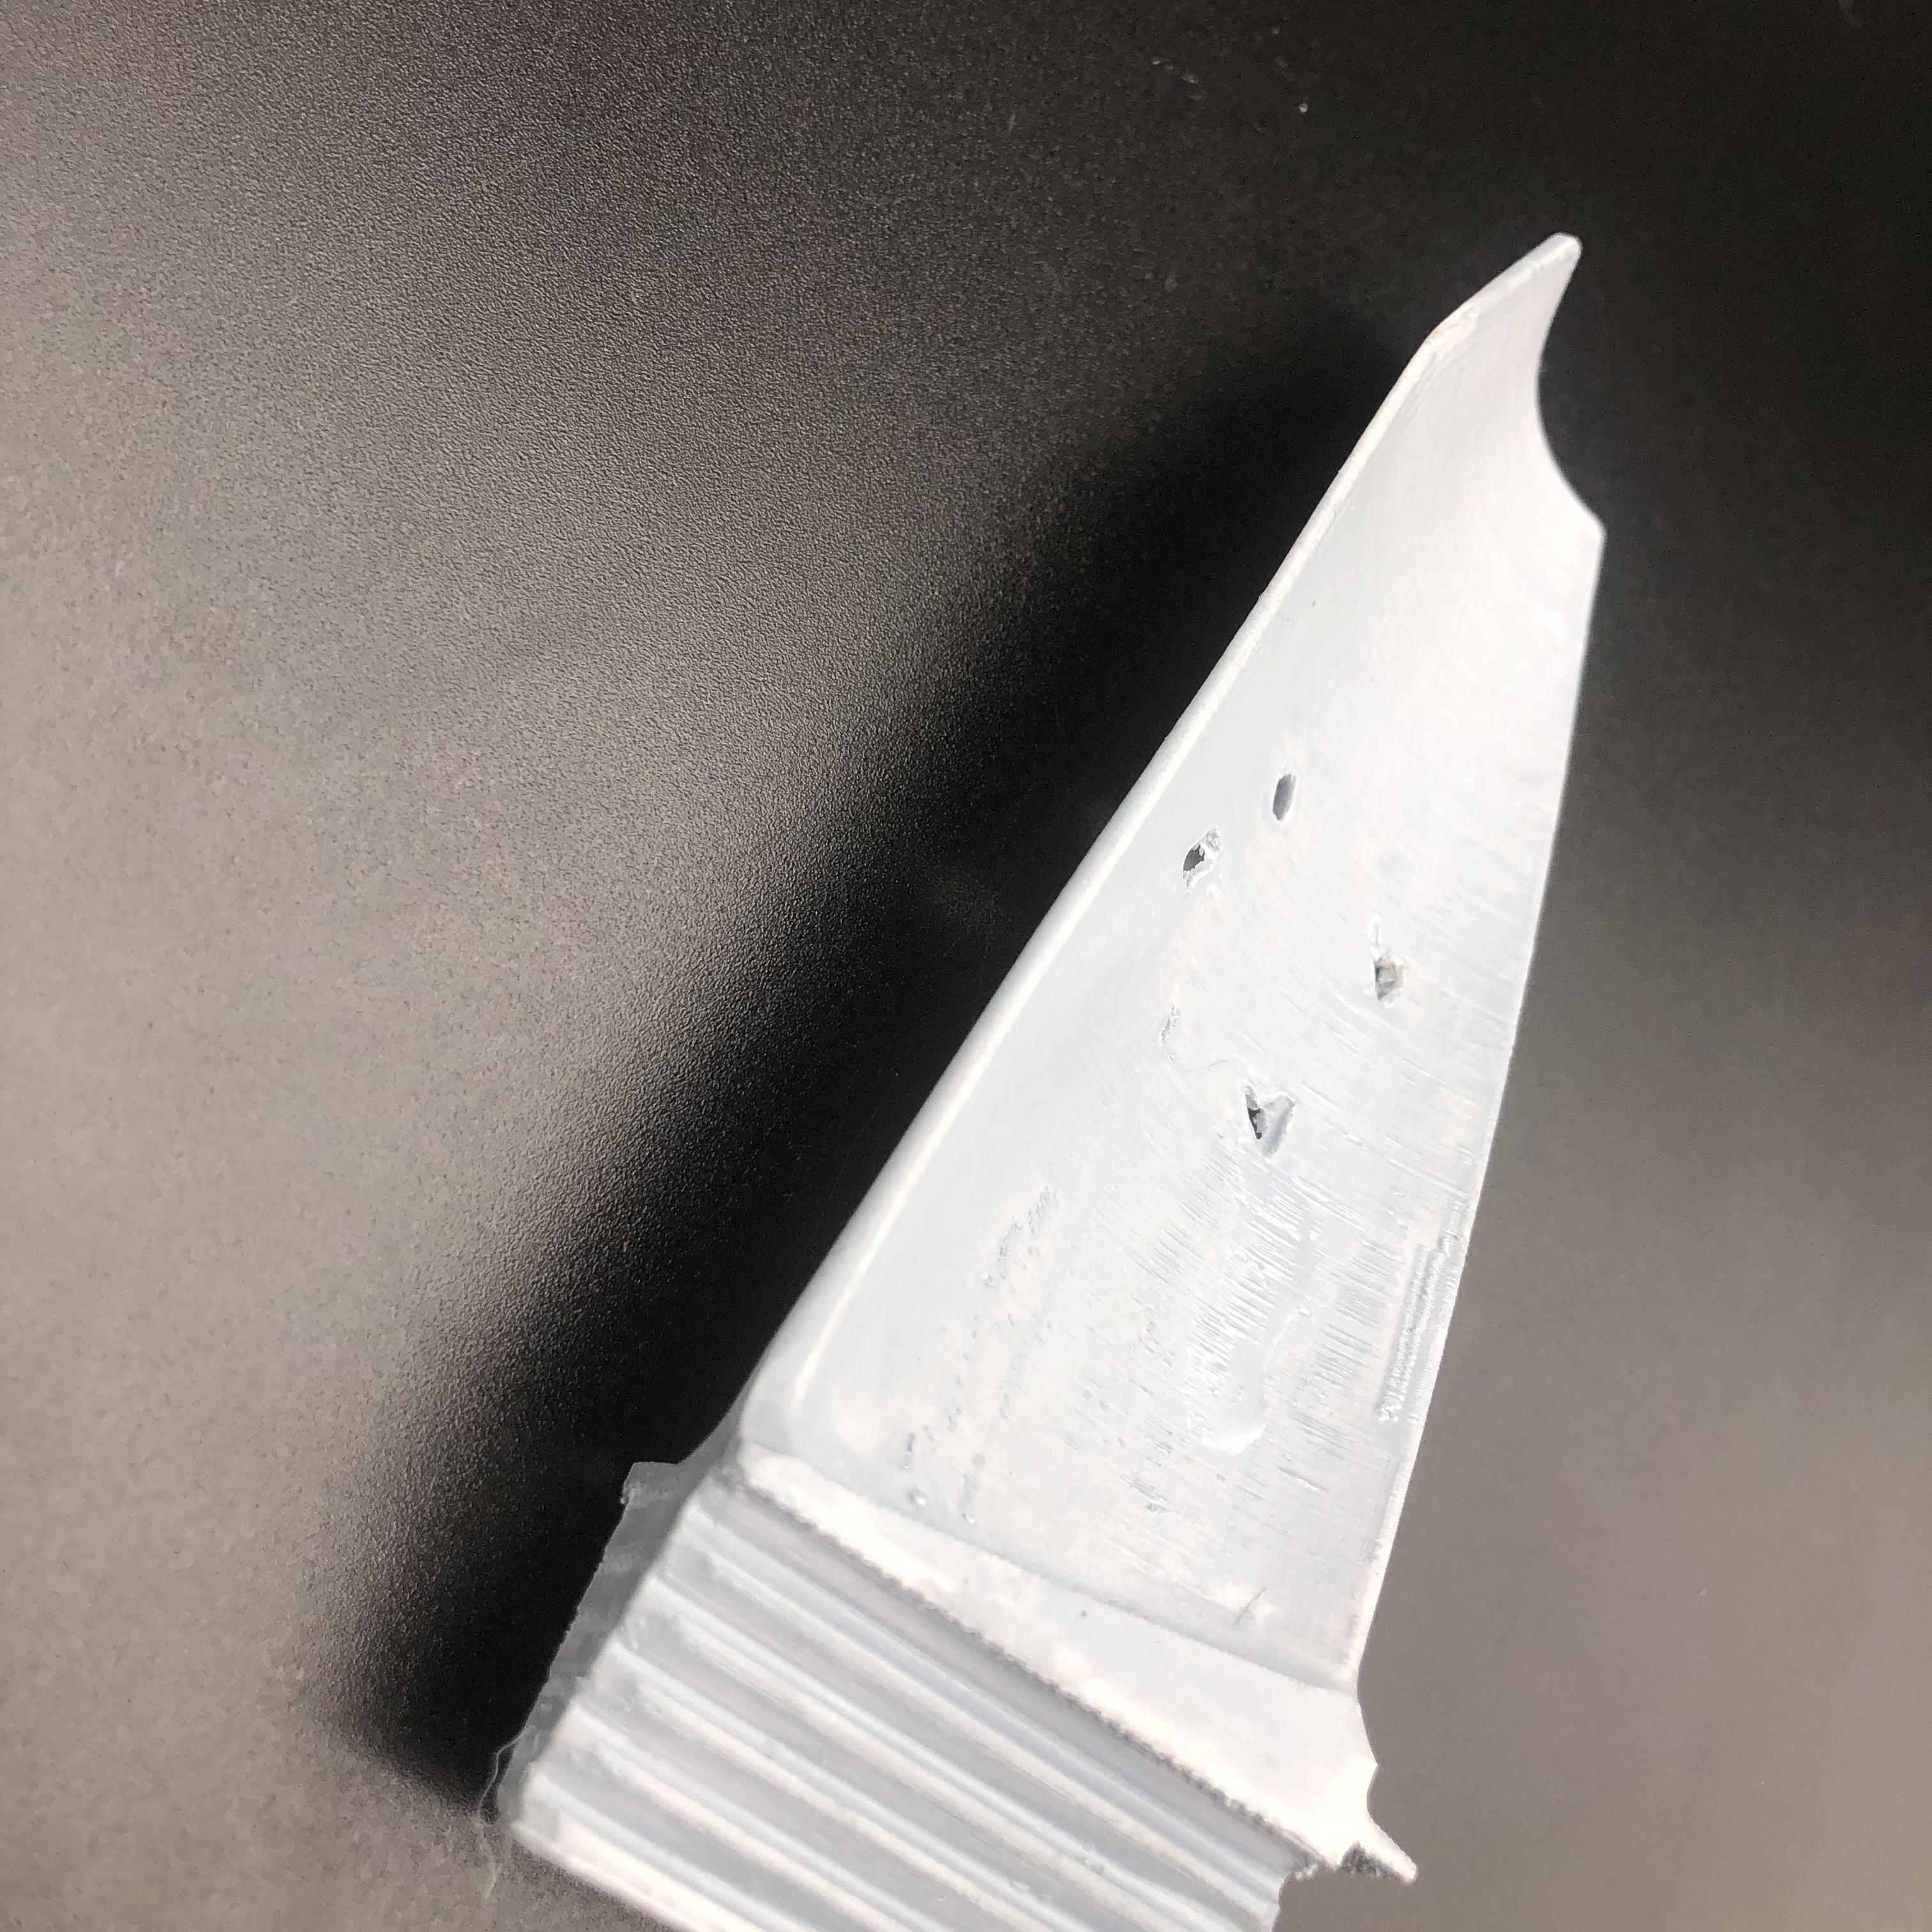breakdown: (1194, 773, 1401, 1136)
